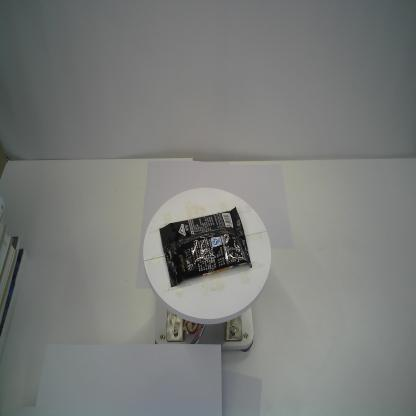Instant Drink: (159, 206, 252, 288)
